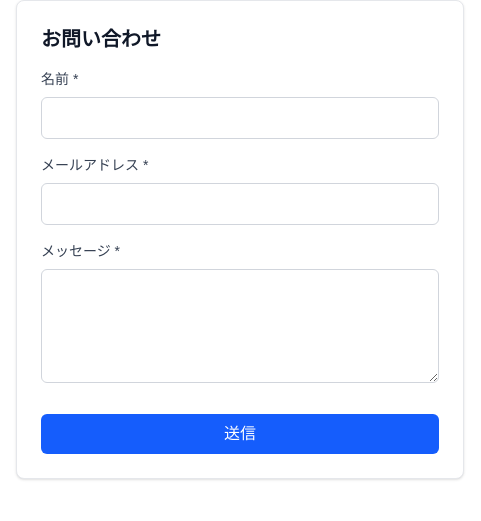
Test case: ContactForm Integration › validates message minimum length
Note: 名前とメールは有効な値を入力し、メッセージのみ短く入力
Type "田中太郎" into the field with test id "name-input" at (240, 118), box [41,97,439,139]
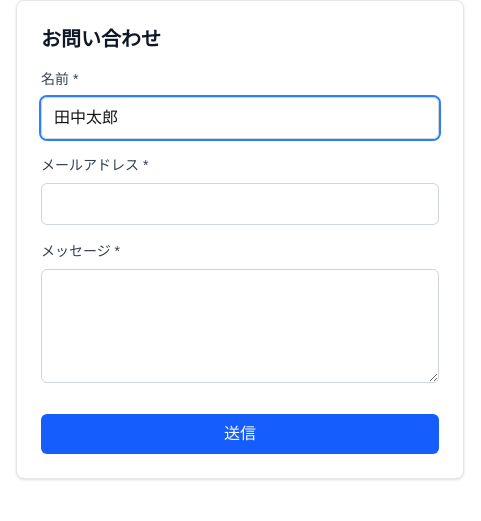
Type "tanaka@example.com" into the field with test id "email-input" at (240, 204), box [41,183,439,225]
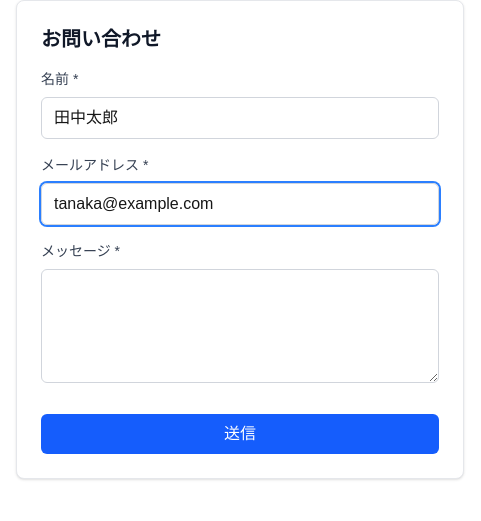
Type "短い" into the text box with test id "message-input" at (240, 326), box [41,269,439,383]
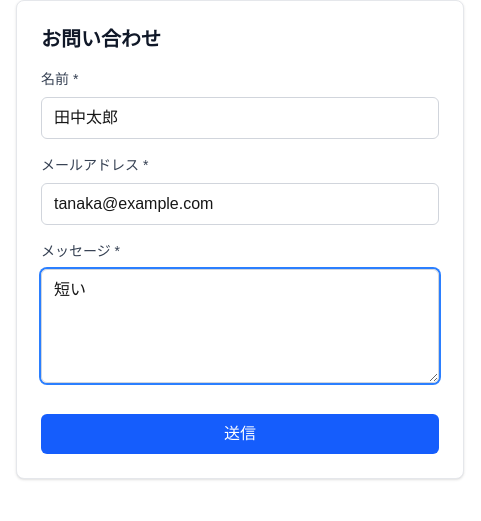
Click the button with test id "submit-button" at (240, 434), box [41,414,439,454]
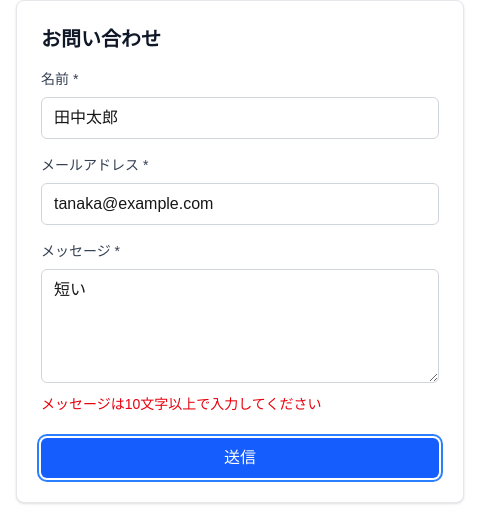
Result: the text with test id "message-error" reads "メッセージは10文字以上で入力してください" at [41,396,322,412]
